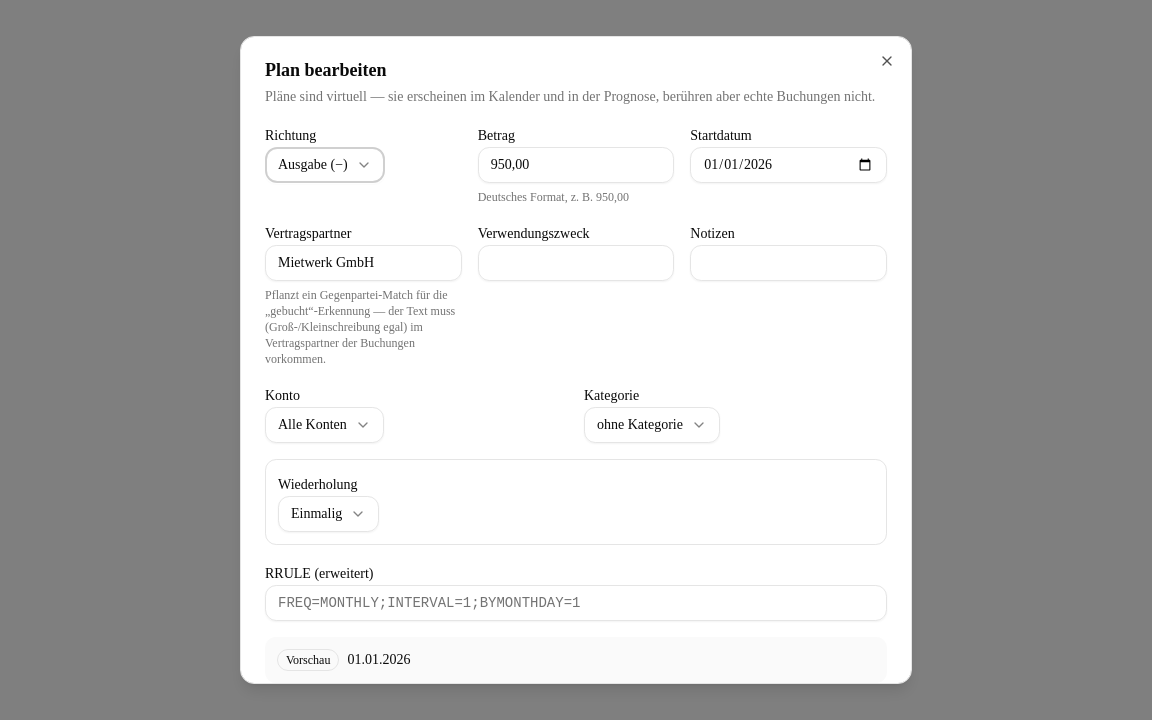
Test: plan dialog: invalid builder input must not crash the page › a zero amount disarms save inline instead of a save-time 400
The width and height of the screenshot is (1152, 720).
Replace the text in the field labelled "Betrag Deutsches Format, z. B. 950,00" with "0,00" at (576, 165), box [478,147,674,183]
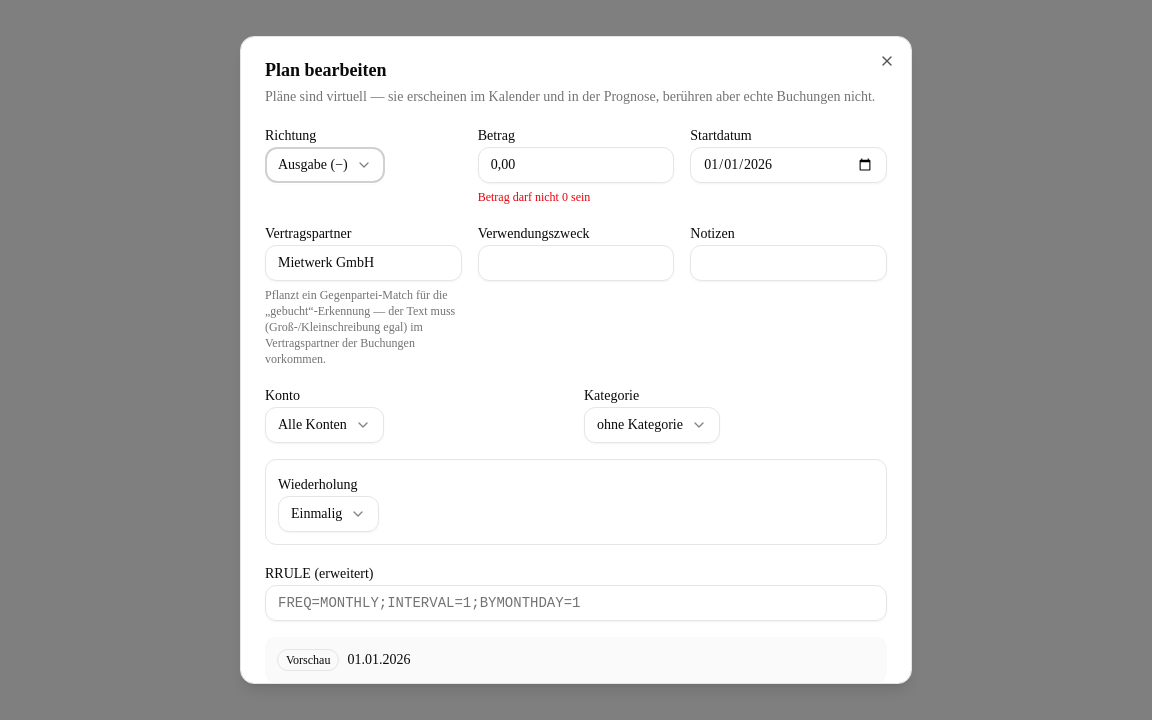
Now the text "Betrag darf nicht 0 sein" is shown, box [478,190,590,204]
Replace the text in the field labelled "Betrag Betrag darf nicht 0 sein" with "0,01" at (576, 165), box [478,147,674,183]
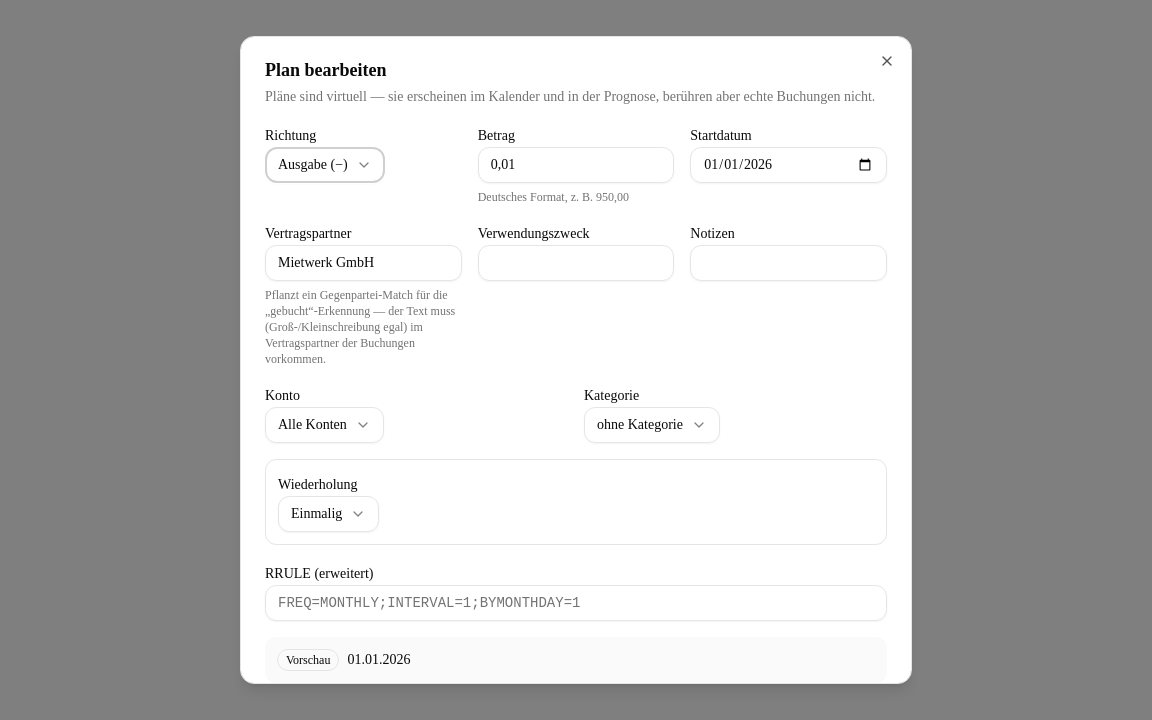
Now the text "Betrag darf nicht 0 sein" is gone
Replace the text in the field labelled "Betrag Deutsches Format, z. B. 950,00" with "0" at (576, 165), box [478,147,674,183]
(page scrolled)
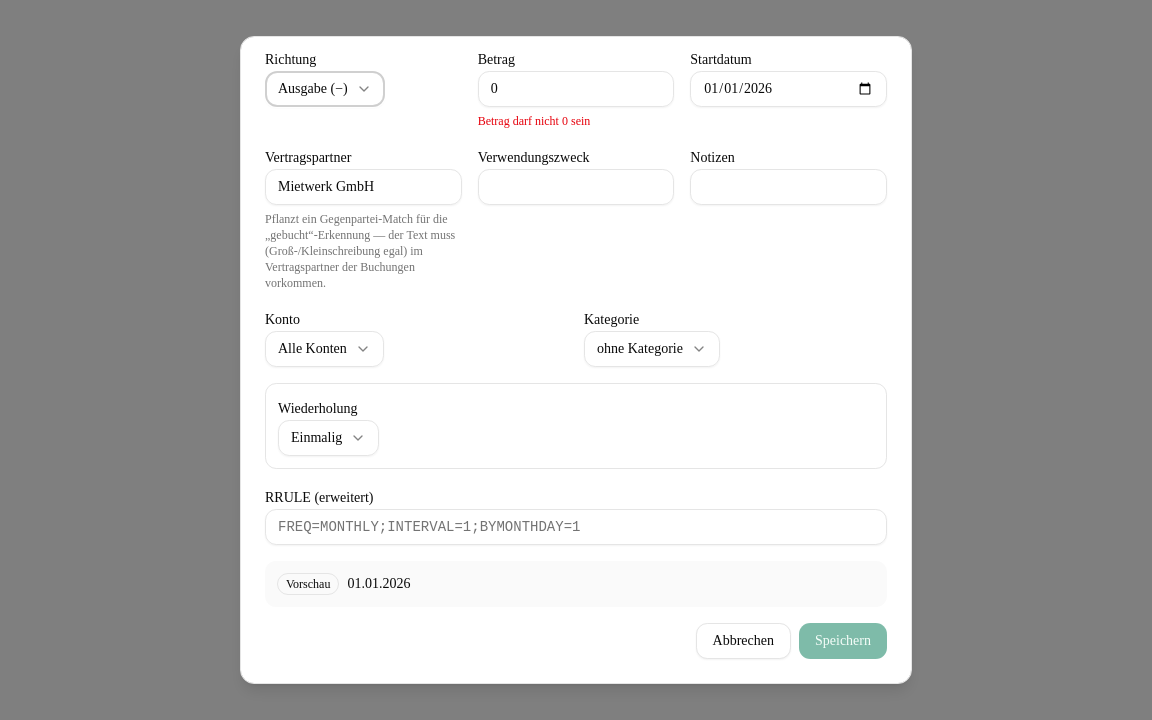
Now the text "Betrag darf nicht 0 sein" is shown, box [478,114,590,128]
Now the button "Speichern" is disabled, box [799,623,887,659]
